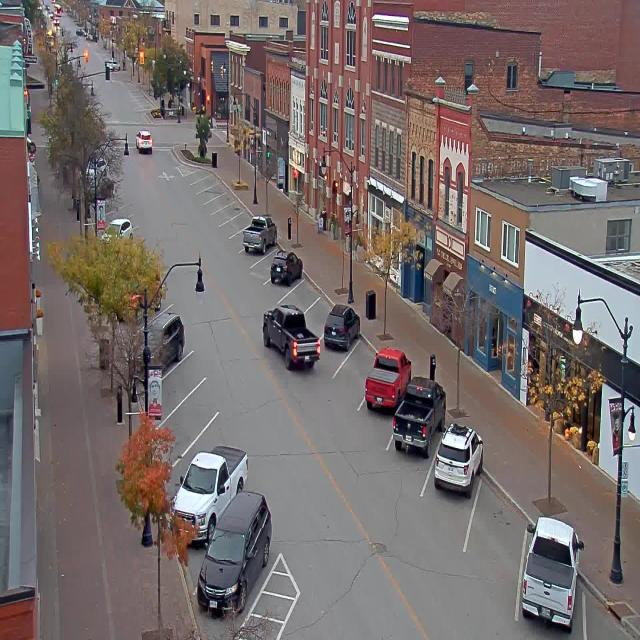available: (476, 486, 528, 572), (578, 582, 640, 640), (181, 368, 221, 432), (166, 331, 207, 392), (192, 402, 234, 461), (342, 327, 380, 385), (306, 286, 335, 332), (291, 264, 317, 310), (248, 237, 274, 276), (184, 162, 200, 189), (198, 182, 214, 207), (222, 218, 239, 241), (192, 170, 207, 196), (212, 206, 228, 230), (206, 194, 222, 218)
occupied: (196, 490, 272, 616), (171, 444, 248, 547), (521, 515, 584, 631), (392, 374, 446, 457), (434, 421, 483, 498), (364, 345, 412, 412), (142, 307, 185, 367), (323, 303, 360, 352), (242, 214, 277, 254), (270, 249, 303, 286)
